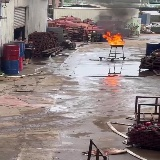fire: (101, 31, 125, 45)
